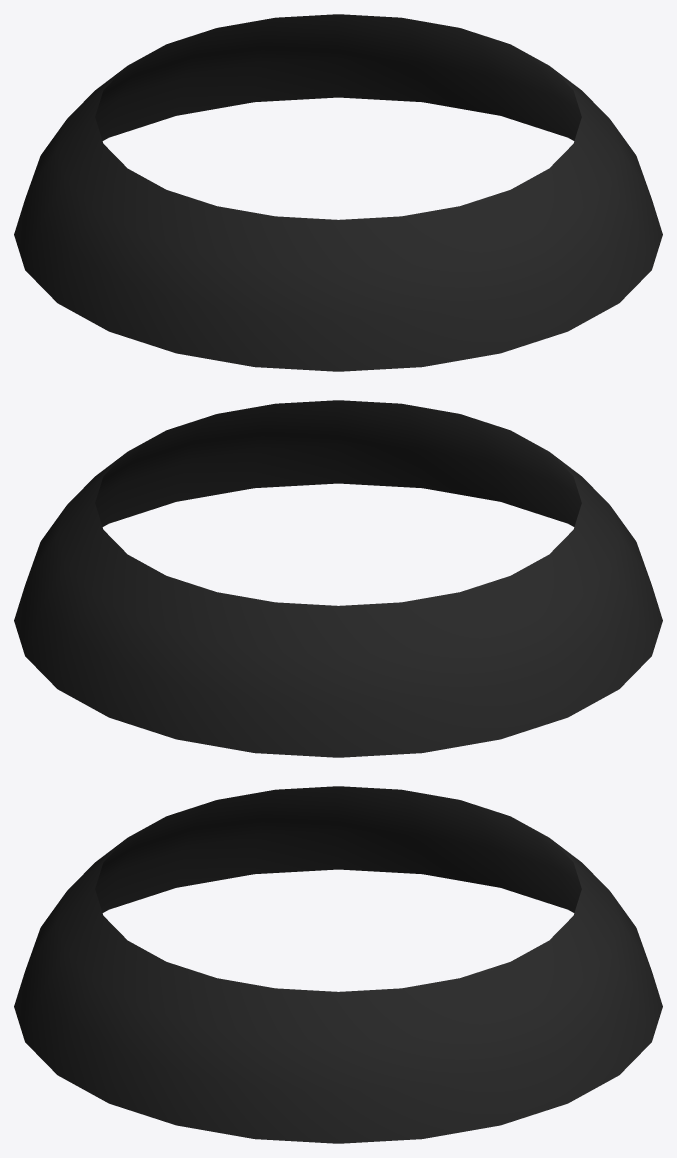
Rendered from hadar_adapter_s1_s0p5_1.obj.
The picture shows the model from 3 angles, top to bottom: view 1: azimuth 30°, elevation 25°; view 2: azimuth 150°, elevation 25°; view 3: azimuth 270°, elevation 25°; orthographic projection.
Parts seen in each view (by area): view 1: mesh; view 2: mesh; view 3: mesh.
Part boxes in pixels (bbox=[...]): mesh: bbox=[14, 14, 662, 371]; mesh: bbox=[14, 400, 662, 757]; mesh: bbox=[14, 786, 662, 1143].
Bounding box in the file's own units: 1.25 × 0.25 × 1.25.
